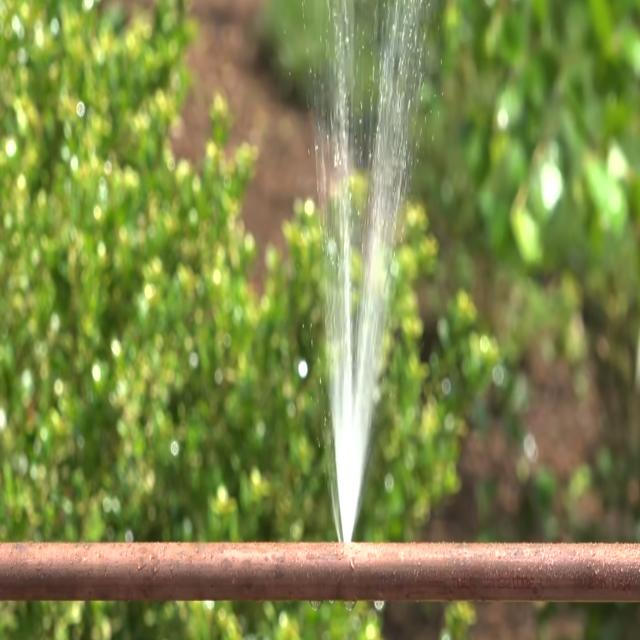leak: (295, 0, 440, 543)
